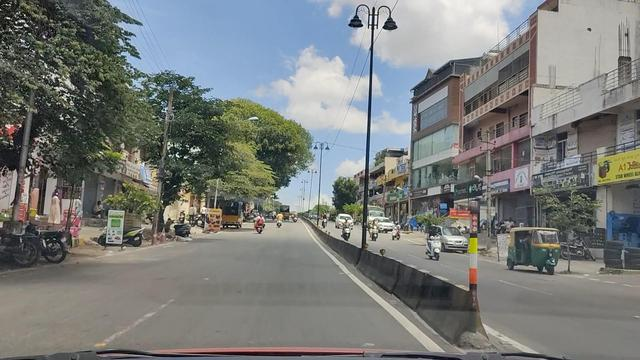LMV: (513, 226, 561, 265), (428, 229, 444, 260)
